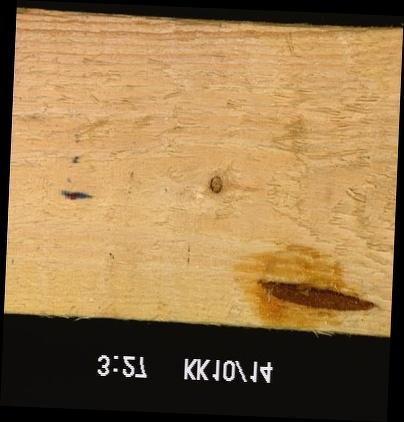dry_knot: (205, 172, 225, 194)
